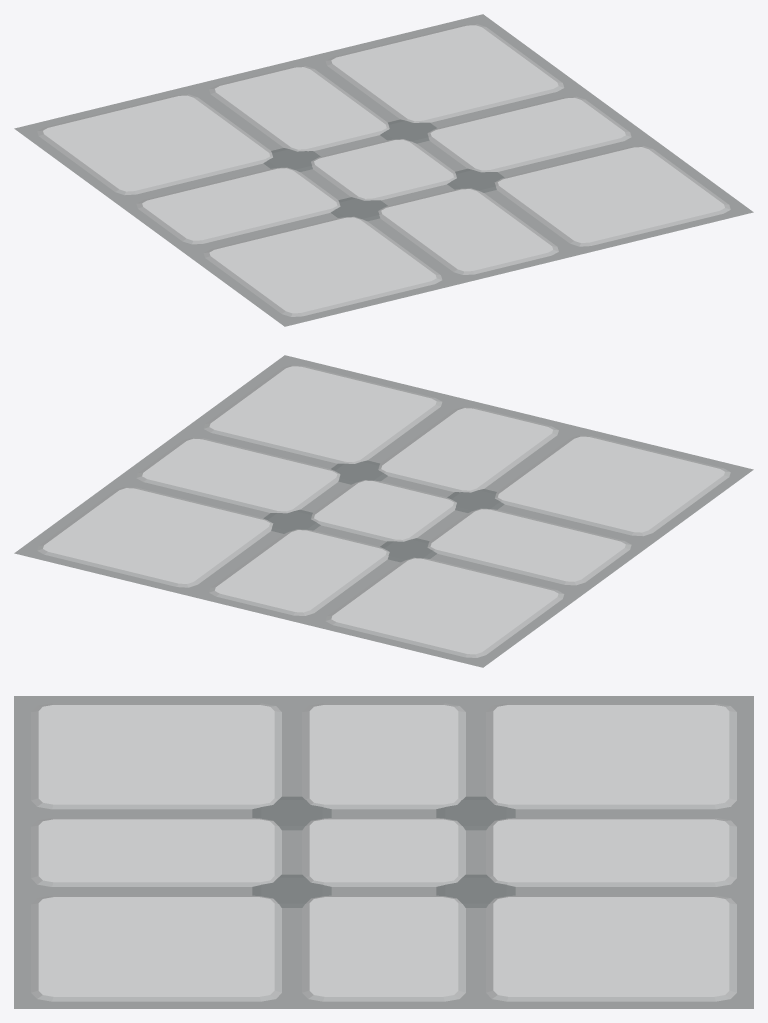
Rendered from Floor_type_A_008.glb.
3 renders of one model, top to bottom at view 1: azimuth 30°, elevation 25°; view 2: azimuth 150°, elevation 25°; view 3: azimuth 270°, elevation 25°, orthographic. The views are drawn at different scales.
Visible parts, largest first — view 1: Floor_type_A_008; view 2: Floor_type_A_008; view 3: Floor_type_A_008.
Boxes of the visible parts, left/top/right/bottom form: Floor_type_A_008: left=14, top=14, right=753, bottom=326; Floor_type_A_008: left=14, top=355, right=753, bottom=667; Floor_type_A_008: left=14, top=696, right=753, bottom=1008.
Bounding box in the file's own units: 4 × 0.0134 × 4.
1 material, 1 textured.
